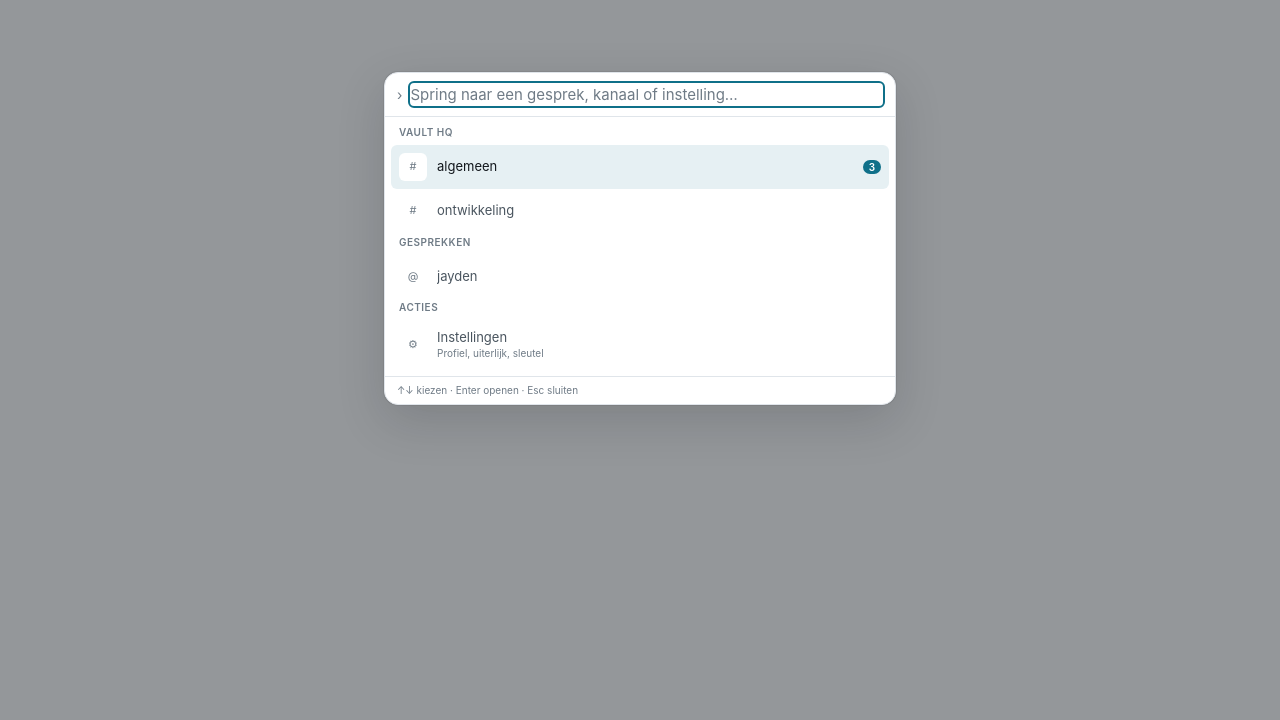
Test: CommandPalette › filtert op een subsequentie
The image size is (1280, 720).
In the field named "Zoek": (647, 95) [410, 83, 883, 106], type "ontw"
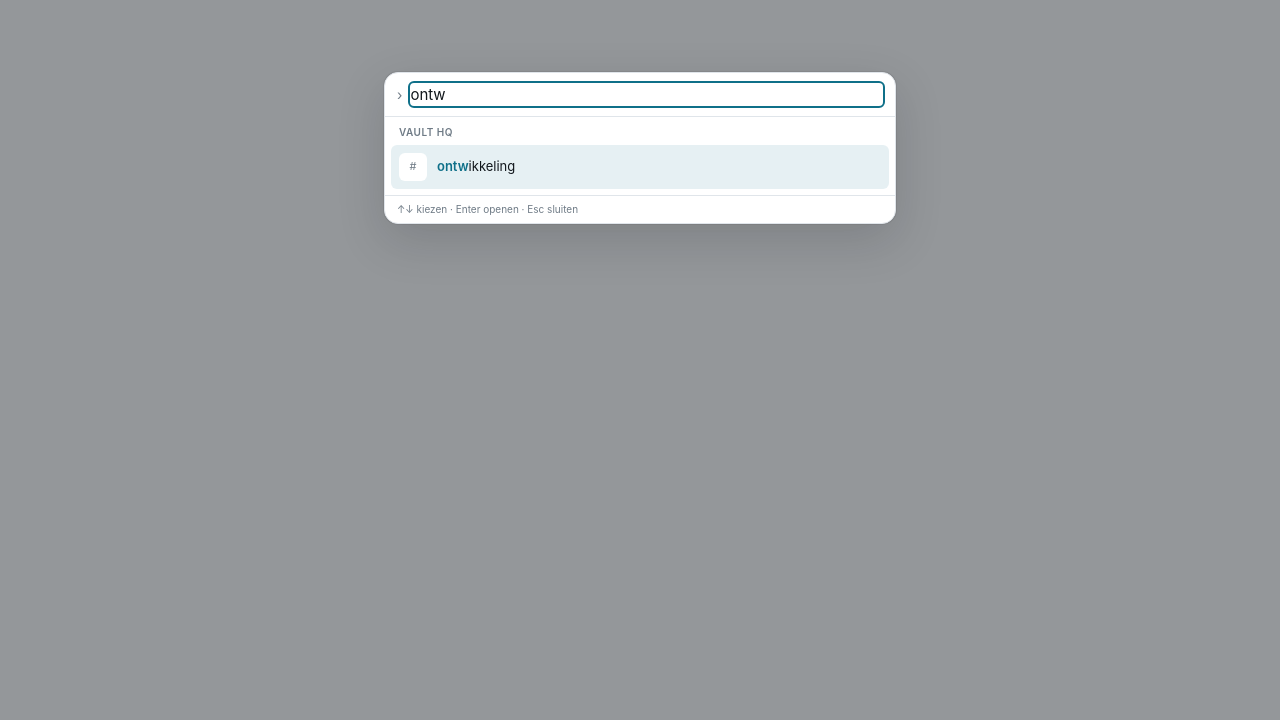
Expected: the option shows "ontwikkeling", [391, 145, 889, 189]
Now the number of options is 1, box [391, 145, 889, 189]
